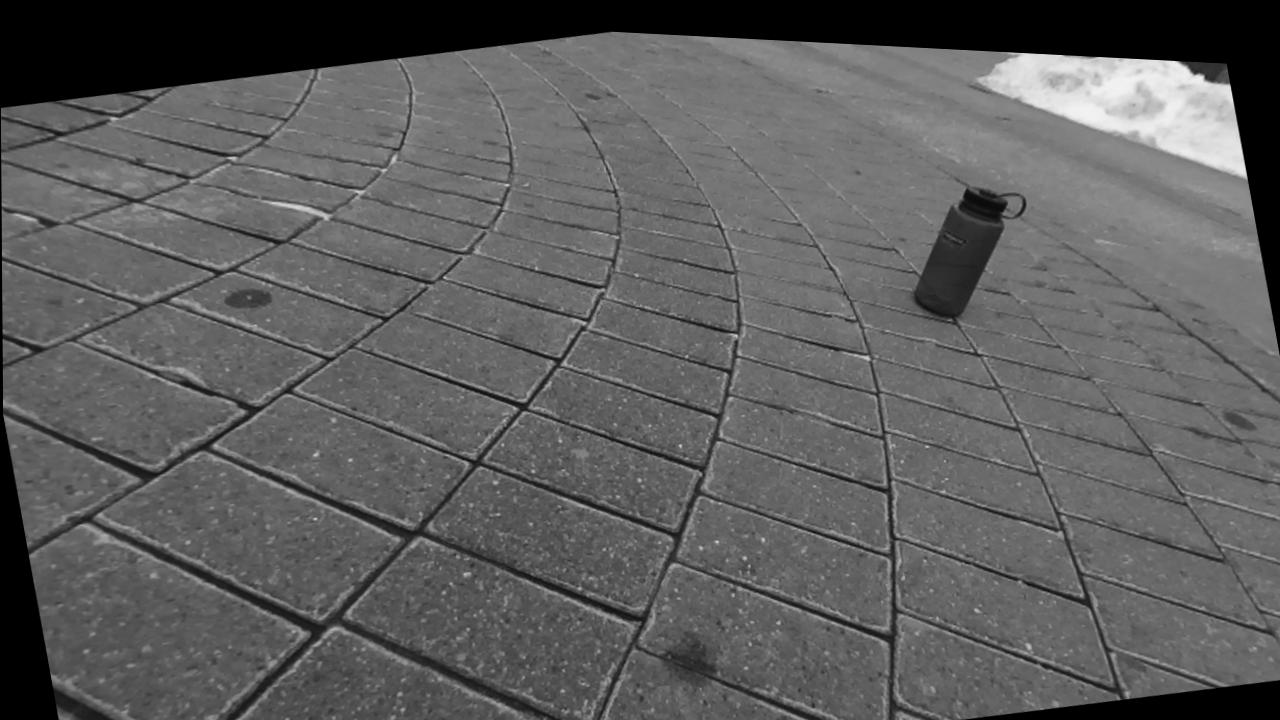bottle: (913, 186, 1026, 316)
